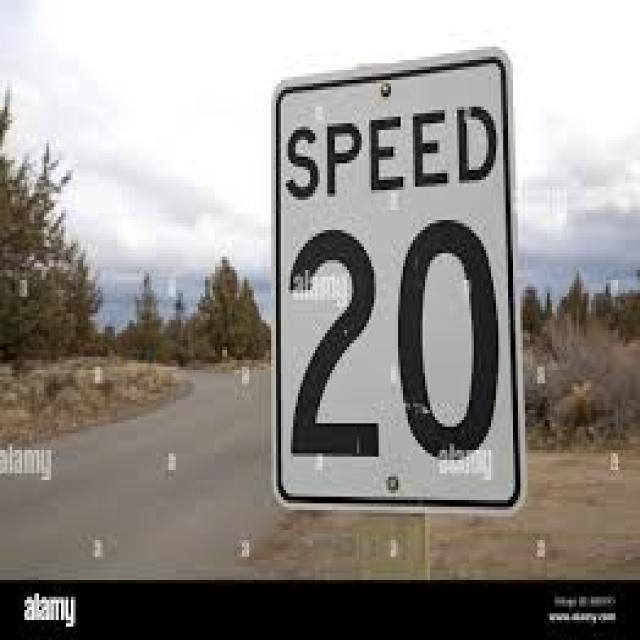speedLimit20: (278, 75, 516, 502)
